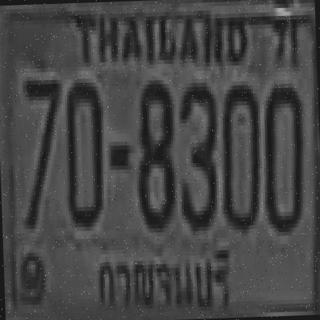N00: (260, 79, 304, 228), (218, 81, 261, 230), (62, 76, 105, 225)
N03: (175, 78, 218, 227)
N07: (20, 76, 63, 225)
N08: (133, 74, 174, 227)
P17: (88, 234, 235, 320)
